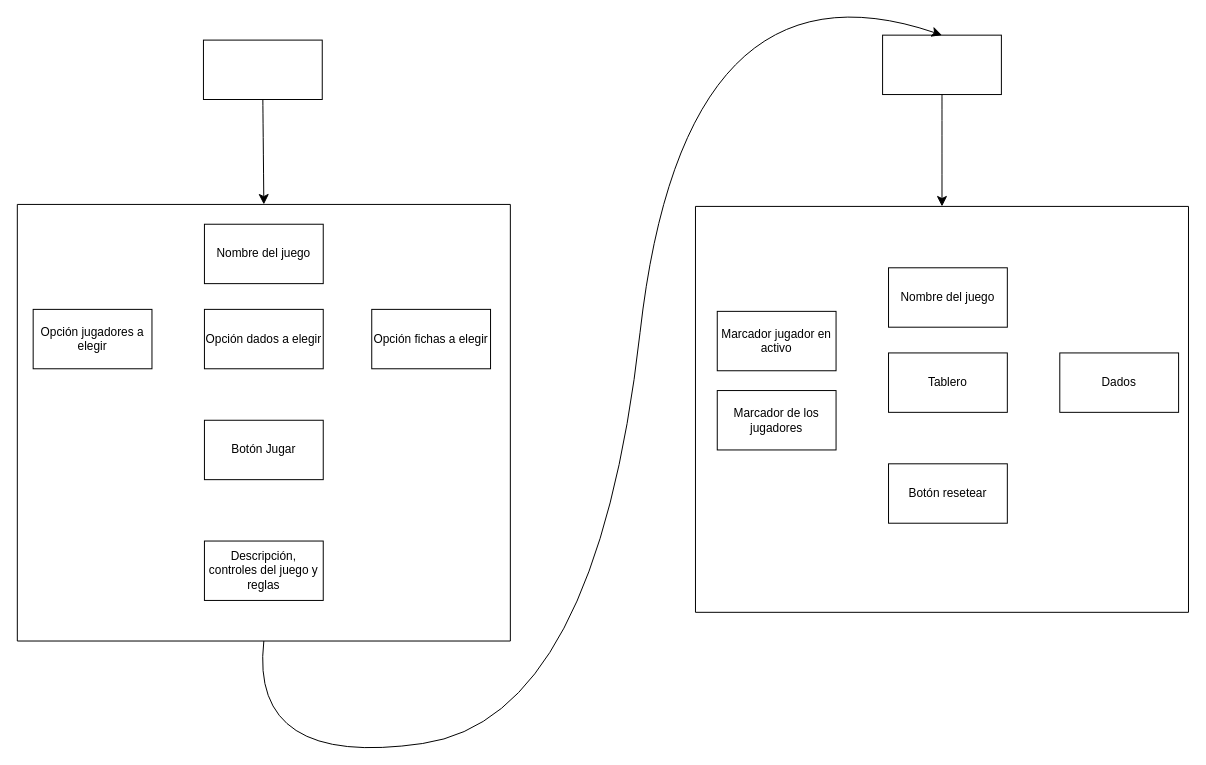
The diagram is 1206 pixels wide and 765 high, and some of its shapes have lost their labels. Here are the shapes that lost their labels. From the top down, the box of each, then its label:
(202, 39, 322, 99): Pantalla de inicio
(882, 34, 1001, 95): Pantalla del juego
